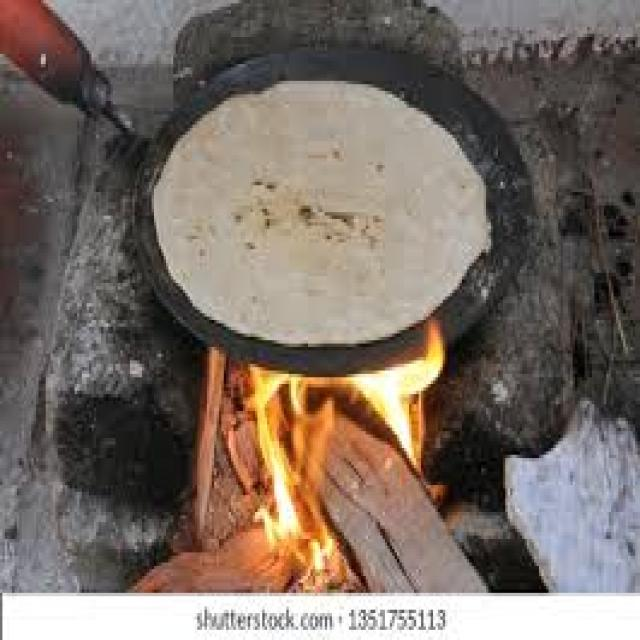ROTI: (149, 81, 488, 337)
